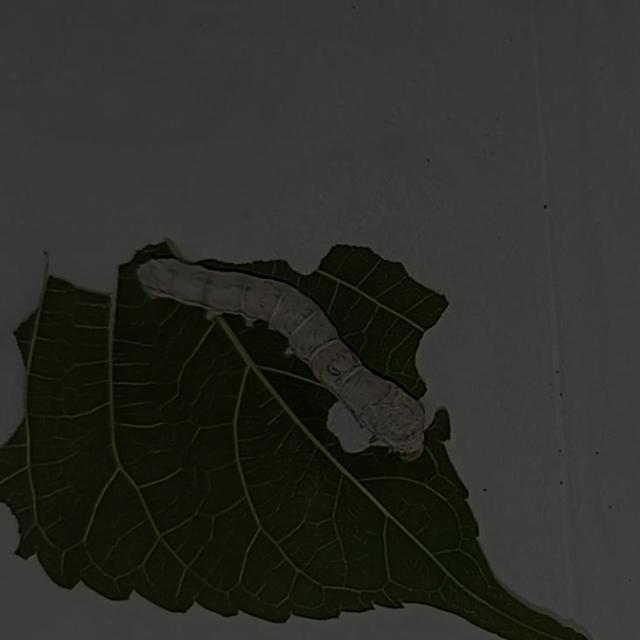Healthy: (108, 234, 452, 467)
